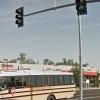Traffic light: (10, 4, 26, 28)
